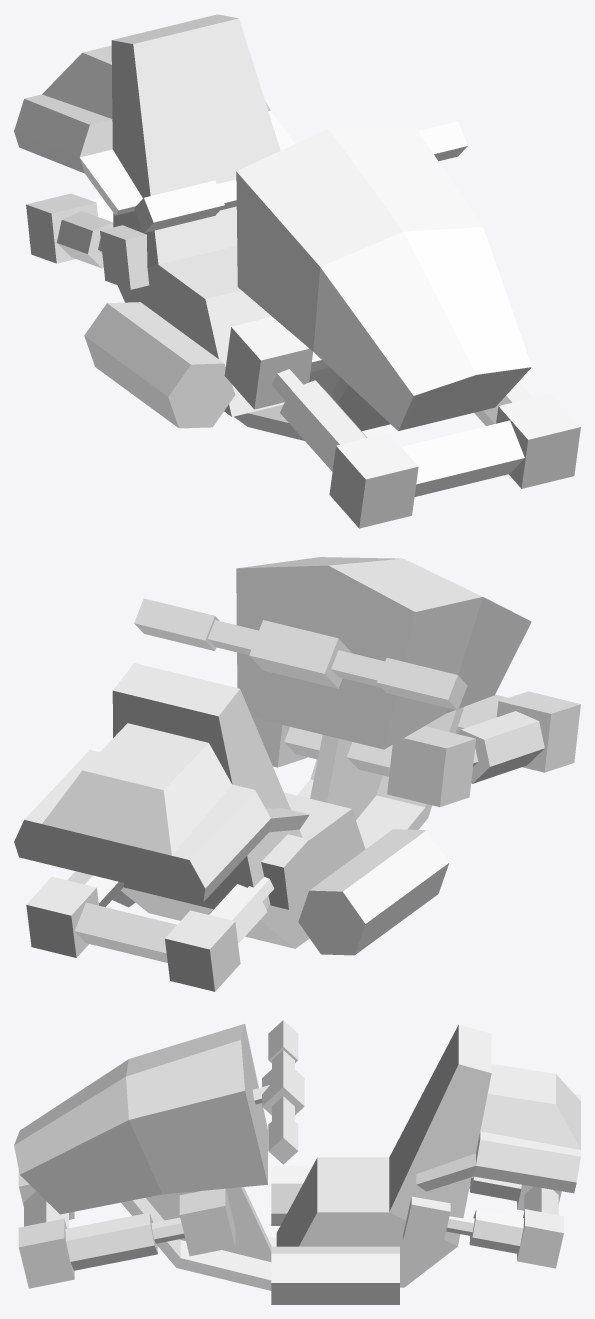
File: Bike 1 Body.glb
The picture shows the model from 3 angles, top to bottom: view 1: azimuth 30°, elevation 25°; view 2: azimuth 150°, elevation 25°; view 3: azimuth 270°, elevation 25°; orthographic projection. The views are drawn at different scales.
Parts seen in each view (by area): view 1: body, interior; view 2: body, interior; view 3: body, interior.
Part boxes in pixels (box(x1,y1,x2,y2)): body: box(14, 45, 531, 440); interior: box(26, 14, 580, 528); body: box(14, 557, 531, 955); interior: box(26, 598, 580, 991); body: box(14, 1024, 580, 1304); interior: box(18, 1020, 563, 1288).
Size of the model in its own units: 1.88 by 1.73 by 3.84.
1 material, 1 textured.
